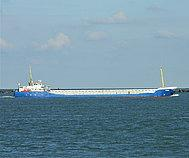Ship: (14, 64, 183, 102)
